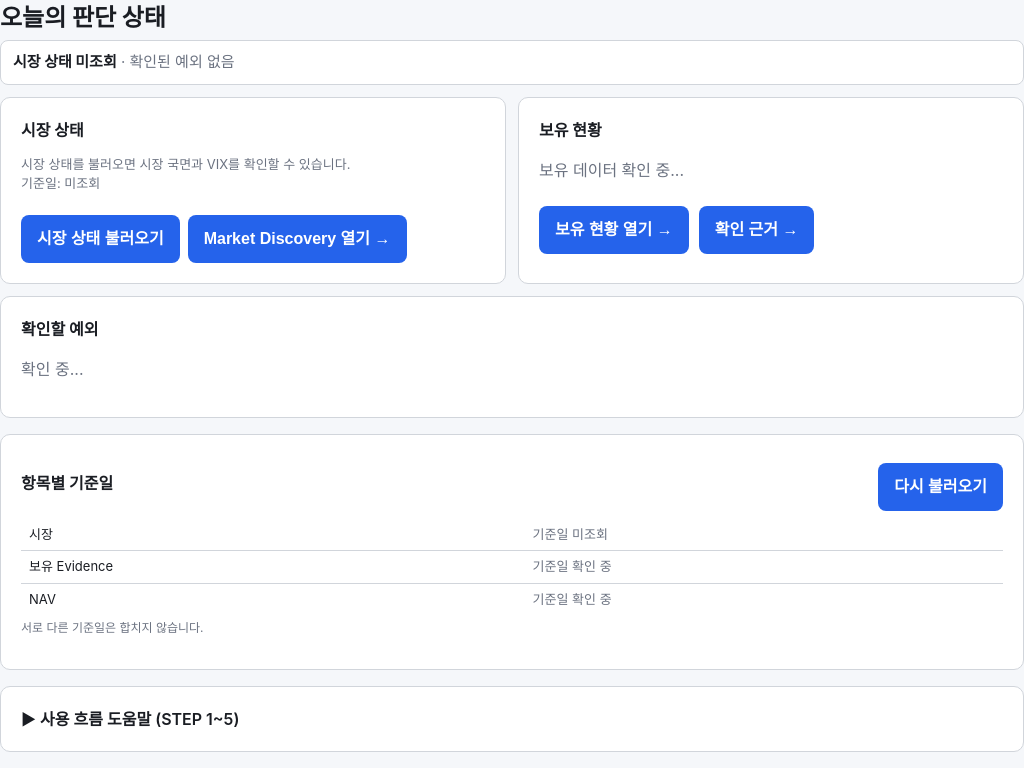
Test case: DashboardView — VIX stale · 예외 · 일부 실패 › VIX 는 소수점 둘째 자리로 표시하고 최신성 안내를 분리 표시한다 (POC5-12 서버 판정)
Click the button "시장 상태 불러오기" at (100, 238), box [21,214,180,262]
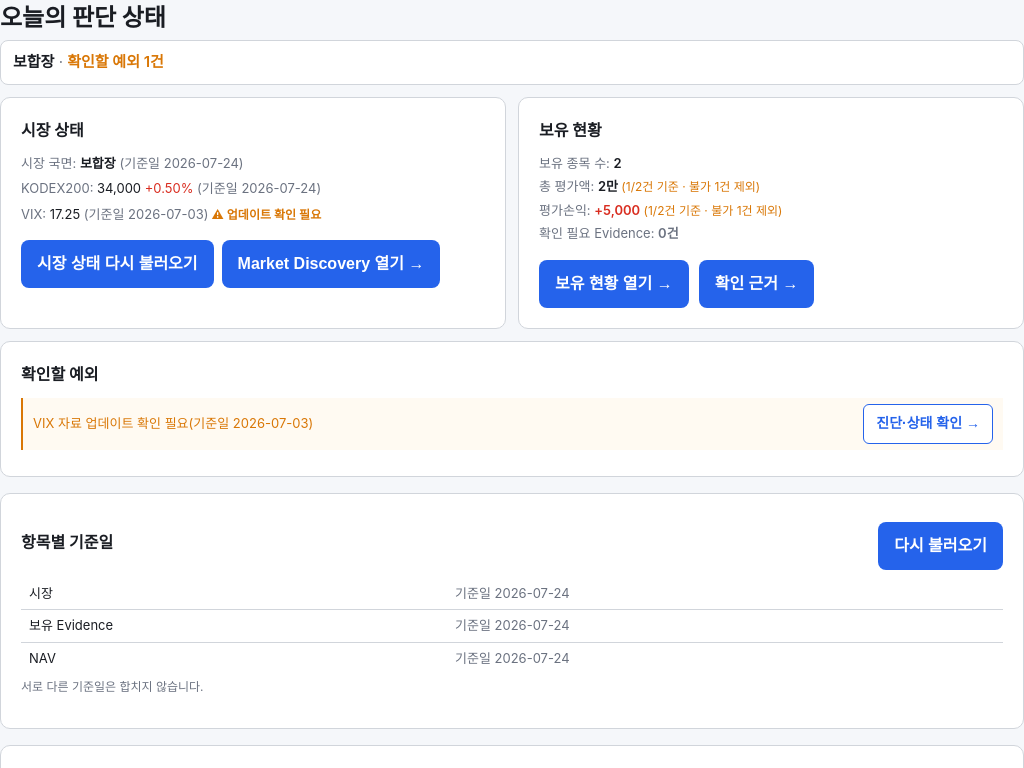
Now the text "시장 상태" shows "17.25", box [50,206,80,222]
Now the text "시장 상태" shows "업데이트 확인 필요", box [227,206,321,222]
